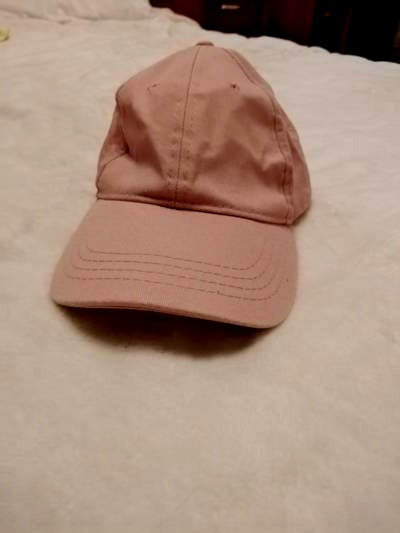Hat: (62, 46, 322, 349)
